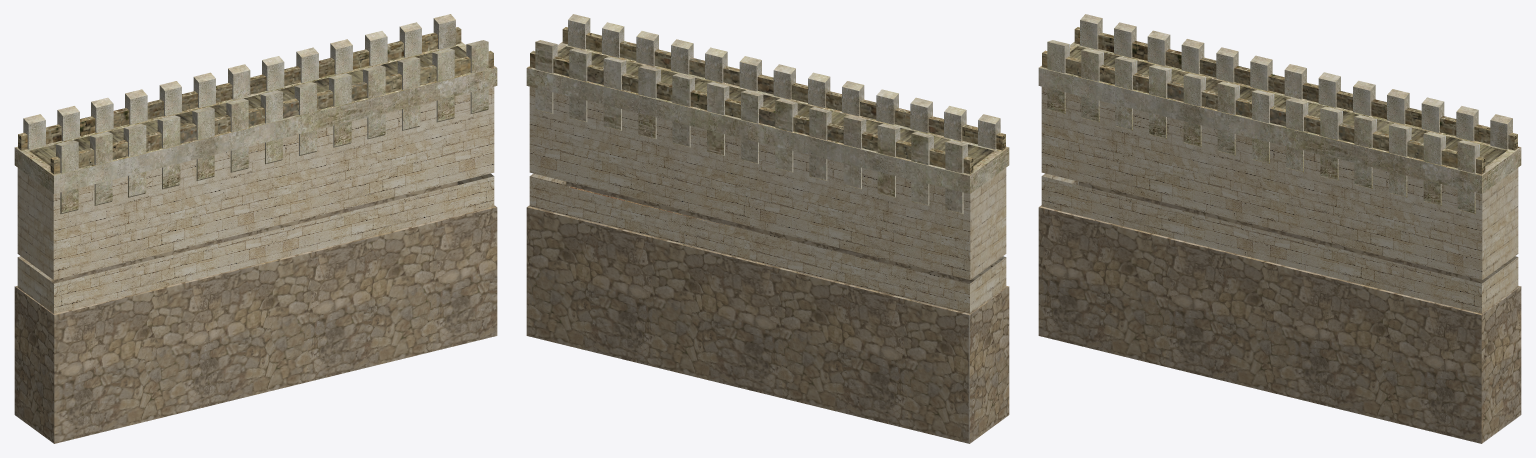
The model's file is syrac_wall_long.dae.
3 renders of one model, left to right at view 1: azimuth 30°, elevation 25°; view 2: azimuth 150°, elevation 25°; view 3: azimuth 330°, elevation 25°, orthographic.
Visible parts, largest first — view 1: wall_long; view 2: wall_long; view 3: wall_long.
Boxes of the visible parts, x1,y1,x2,y2 form: wall_long: (14, 14, 497, 443); wall_long: (526, 14, 1009, 443); wall_long: (1038, 14, 1521, 443).
Size of the model in its own units: 36.28 by 5.61 by 23.08.
